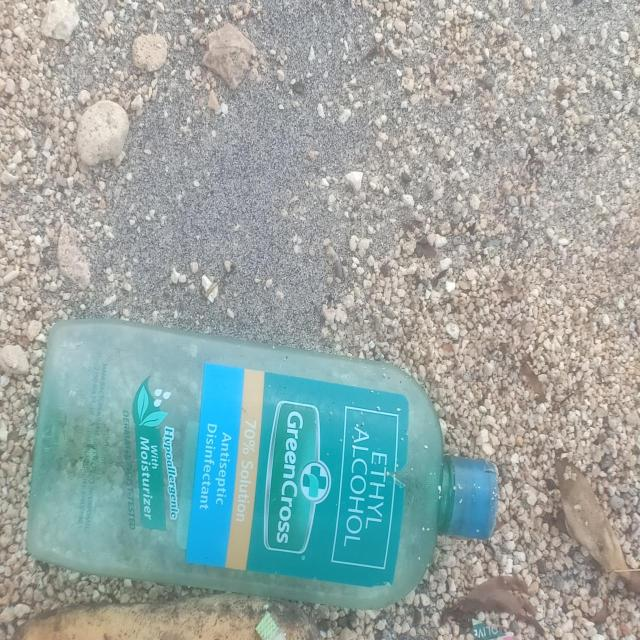plastic_waste: (16, 316, 496, 610)
